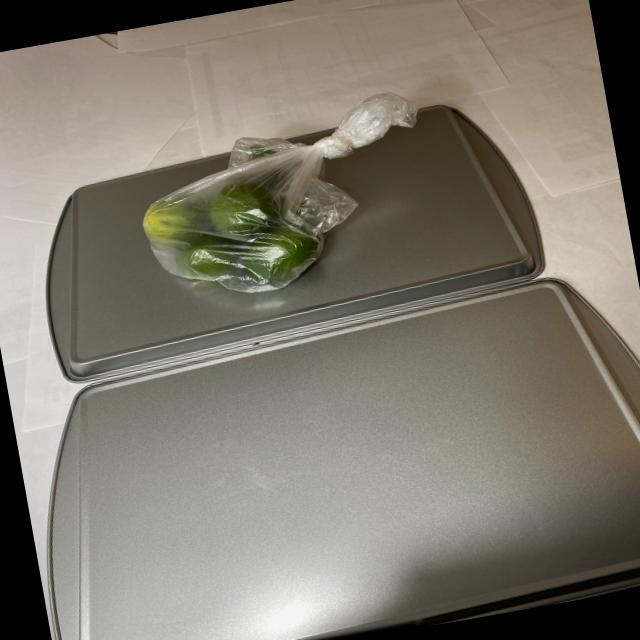lemon: (126, 133, 342, 315)
